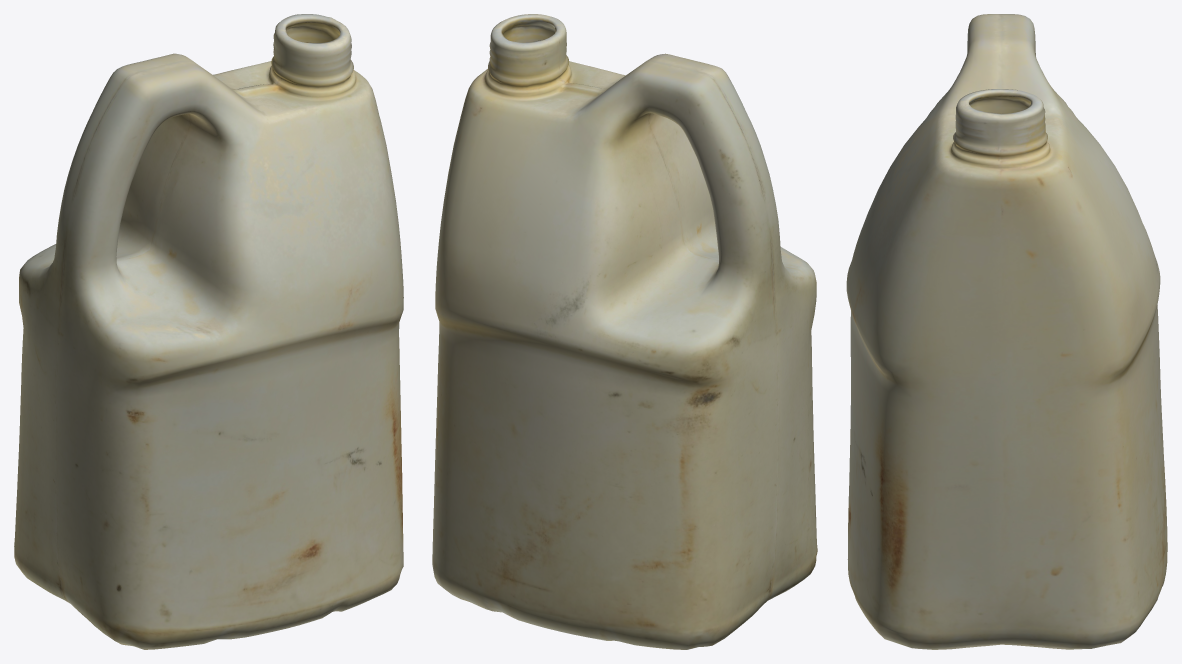
Rendered from milk_carton.glb.
3 renders of one model, left to right at view 1: azimuth 30°, elevation 25°; view 2: azimuth 150°, elevation 25°; view 3: azimuth 270°, elevation 25°, orthographic.
Visible parts, largest first — view 1: plastic_bottle_gallon; view 2: plastic_bottle_gallon; view 3: plastic_bottle_gallon.
Boxes of the visible parts, left/top/right/bottom form: plastic_bottle_gallon: left=14, top=14, right=403, bottom=649; plastic_bottle_gallon: left=432, top=14, right=817, bottom=649; plastic_bottle_gallon: left=846, top=14, right=1167, bottom=649.
Size of the model in its own units: 0.1847 by 0.3086 by 0.167.
1 material, 1 textured.
